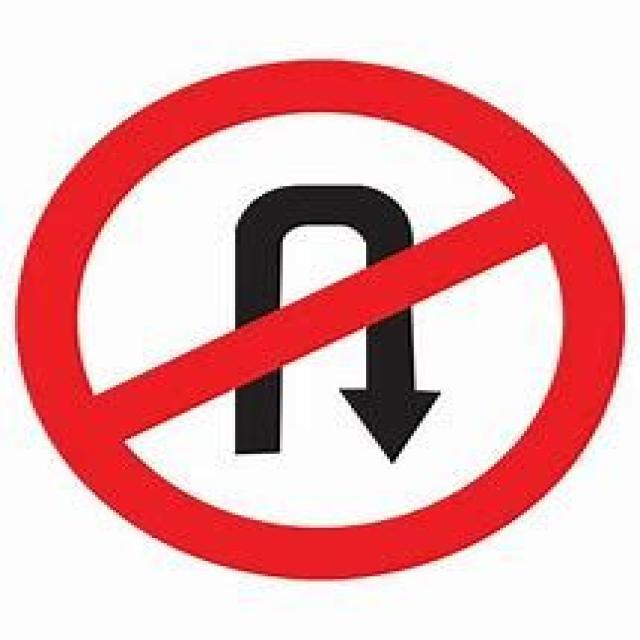u turn prohibited: (23, 57, 623, 581)
